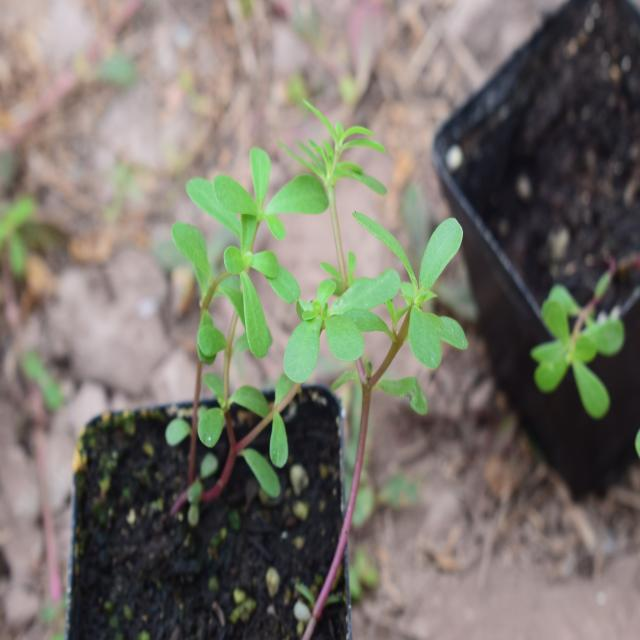purslane: (178, 110, 475, 496)
